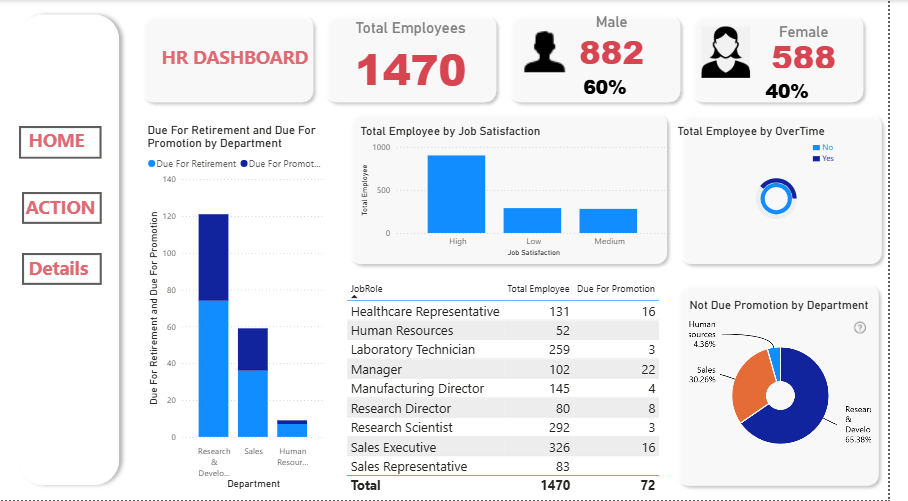

What the dashboard file says about the page in this screenshot:
{"tool":"powerbi","page":{"name":"Details","canvas":[1280,720],"ordinal":2},"visuals":[{"type":"shape","box":[16.5,9.6,166.5,699.2],"z":0},{"type":"shape","box":[195.4,12.4,264.3,143.1],"z":1000},{"type":"shape","box":[459.7,12.4,264.3,143.1],"z":2000},{"type":"shape","box":[724,12.4,264.3,143.1],"z":3000},{"type":"shape","box":[988.2,12.4,264.3,143.1],"z":4000},{"type":"image","box":[1004.7,33,79.8,84],"z":5000},{"type":"image","box":[736.3,26.2,95,90.8],"z":6000},{"type":"card","title":"Total Employees","fields":{"Values":["All Measures.Total Employee"]},"box":[468,27.5,246.4,112.9],"z":7000},{"type":"card","title":"Male","fields":{"Values":["All Measures.Male"]},"box":[757.5,18.7,246.8,84.3],"z":8000},{"type":"card","title":"Female","fields":{"Values":["All Measures.Female"]},"box":[1033.9,32.8,246.8,70.3],"z":9000},{"type":"card","fields":{"Values":["All Measures.Male %"]},"box":[784,95.3,174.9,60.9],"z":10000},{"type":"card","fields":{"Values":["All Measures.Female %"]},"box":[1049.6,103.1,167.1,56.2],"z":11000},{"type":"textbox","box":[216.2,58.1,244.6,66.2],"z":12000},{"type":"textbox","box":[17.2,176.5,128.1,70.3],"z":13000},{"type":"textbox","box":[35.9,274.9,128.1,70.3],"z":14000},{"type":"columnChart","fields":{"Category":["HR Analytics Data.Department"],"Y":["All Measures.Due For Retirement","All Measures.Due For Promotion"]},"box":[206.7,177,264.8,532.4],"z":15000},{"type":"shape","box":[494.5,154,475.6,235.1],"z":16000},{"type":"shape","box":[970.1,155.4,308.1,233.8],"z":17000},{"type":"tableEx","fields":{"Values":["HR Analytics Data.JobRole","All Measures.Total Employee","All Measures.Due For Promotion"]},"box":[494.5,399.9,463.4,320.2],"z":18000},{"type":"columnChart","fields":{"Category":["HR Analytics Data.Job Satisfaction"],"Y":["All Measures.Total Employee"]},"box":[513.4,178.4,456.7,195.9],"z":19000},{"type":"reactRadialChartF56816441CDA4609A764E20CE1E2AE56","fields":{"category":["HR Analytics Data.OverTime"],"measure":["All Measures.Total Employee"]},"box":[970.1,178.4,294.6,195.9],"z":20000},{"type":"shape","box":[966.1,399.9,308.1,308.1],"z":21000},{"type":"ZoomChartsPieChartPaidE77E4ED357DC402ABA005987437CF500","fields":{"Category":["HR Analytics Data.Department"],"Values":["All Measures.Not Due Promotion"]},"box":[987.7,429.7,271.6,262.1],"z":22000},{"type":"textbox","box":[27,274.3,118.9,70.3],"z":22001},{"type":"textbox","box":[24.3,360.8,118.9,70.3],"z":22002},{"type":"actionButton","box":[31.1,277,114.8,45.9],"z":22003},{"type":"actionButton","box":[27,181.1,118.9,47.3],"z":22004},{"type":"actionButton","box":[31.1,364.8,114.8,45.9],"z":22005}]}

Visuals, with their boxes in screenshot pixels (x1, y1, x2, y2), scaled from the page's 1280x720 canvas onto the 908x501 screenshot:
shape: BBox(12, 7, 130, 493)
shape: BBox(139, 9, 326, 108)
shape: BBox(326, 9, 514, 108)
shape: BBox(514, 9, 701, 108)
shape: BBox(701, 9, 888, 108)
image: BBox(713, 23, 769, 81)
image: BBox(522, 18, 590, 81)
"Total Employees" card: BBox(332, 19, 507, 98)
"Male" card: BBox(537, 13, 712, 72)
"Female" card: BBox(733, 23, 907, 72)
card - All Measures.Male %: BBox(556, 66, 680, 109)
card - All Measures.Female %: BBox(745, 72, 863, 111)
textbox: BBox(153, 40, 327, 86)
textbox: BBox(12, 123, 103, 172)
textbox: BBox(25, 191, 116, 240)
columnChart - HR Analytics Data.Department x All Measures.Due For Retirement: BBox(147, 123, 334, 494)
shape: BBox(351, 107, 688, 271)
shape: BBox(688, 108, 907, 271)
tableEx - HR Analytics Data.JobRole x All Measures.Total Employee: BBox(351, 278, 680, 500)
columnChart - HR Analytics Data.Job Satisfaction x All Measures.Total Employee: BBox(364, 124, 688, 260)
reactRadialChartF56816441CDA4609A764E20CE1E2AE56 - HR Analytics Data.OverTime x All Measures.Total Employee: BBox(688, 124, 897, 260)
shape: BBox(685, 278, 904, 493)
ZoomChartsPieChartPaidE77E4ED357DC402ABA005987437CF500 - HR Analytics Data.Department x All Measures.Not Due Promotion: BBox(701, 299, 893, 481)
textbox: BBox(19, 191, 103, 240)
textbox: BBox(17, 251, 102, 300)
actionButton: BBox(22, 193, 103, 225)
actionButton: BBox(19, 126, 103, 159)
actionButton: BBox(22, 254, 103, 286)
